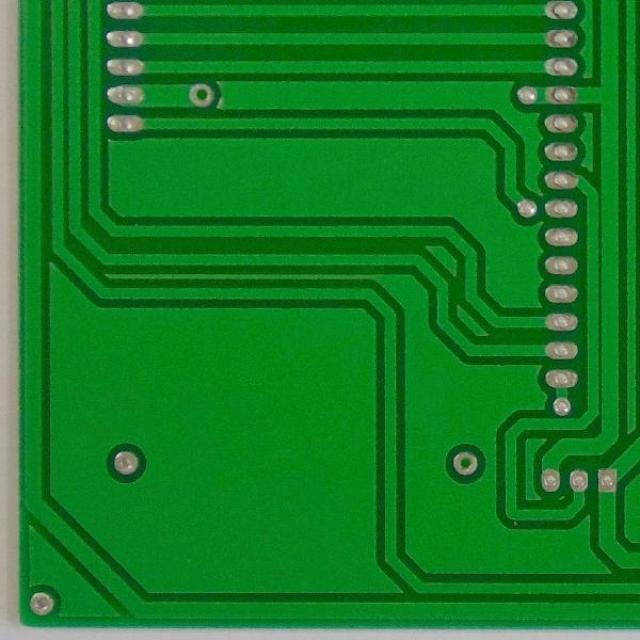missing_hole: (186, 79, 218, 112), (451, 450, 482, 478)
